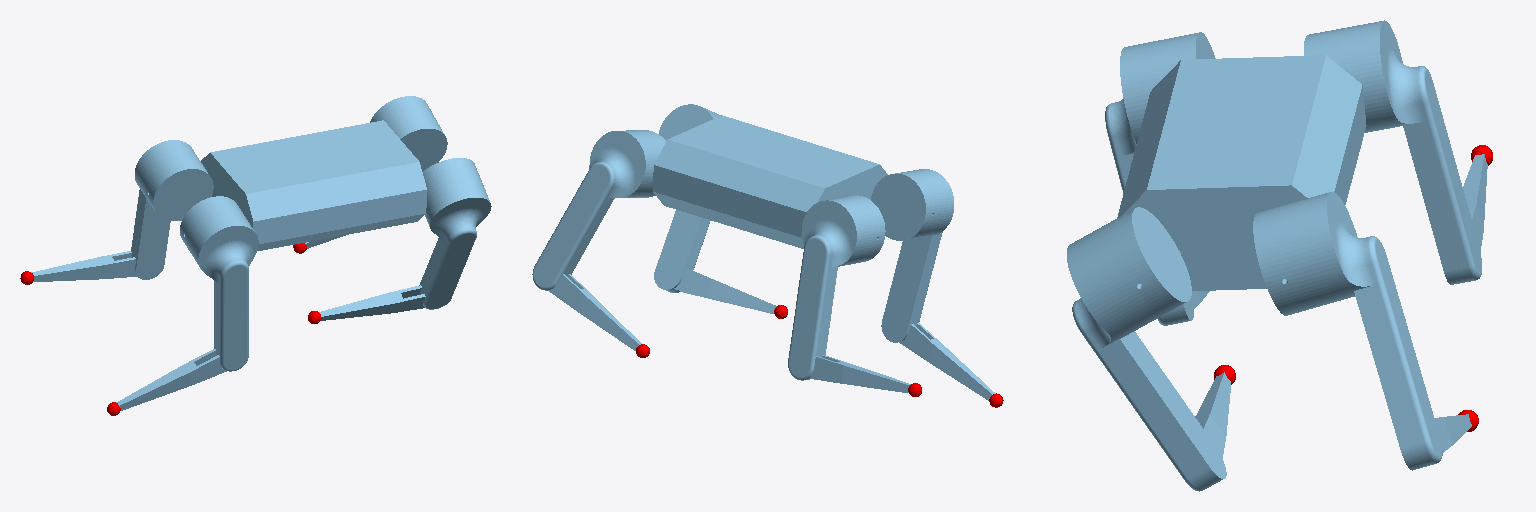
robot.urdf — astro:
<?xml version="1.0" encoding="utf-8"?>

<robot name="astro">
<link name="body_1">
<inertial>
<origin xyz="0 0 0" rpy="0 0 0" />
<mass value="1e-9" />
<inertia ixx="0" ixy="0" ixz="0" iyy="0" iyz="0" izz="0" />
</inertial>
</link>
<link name="body_1_0_body">
<visual>
<geometry>
<mesh filename="package://astro_description/meshes/body.stl"/>
</geometry>
<material name="body_1_0_body_material">
<color rgba="0.615686 0.811765 0.929412 1.0"/>
</material>
</visual>
<collision>
<geometry>
<mesh filename="package://astro_description/meshes/body.stl"/>
</geometry>
<material name="body_1_0_body_material">
<color rgba="0.615686 0.811765 0.929412 1.0"/>
</material>
</collision>
<inertial>
<origin xyz="3.23514e-17 -1.57563e-17 7.22909e-19" rpy="0 0 0"/>
<mass value="5.53043"/>
<inertia ixx="0.0182567" ixy="0"  ixz="0" iyy="0.039027" iyz="0" izz="0.0489361" />
</inertial>
</link>
<joint name="body_1_body_1_0_body_fixing" type="fixed">
<origin xyz="0.0659972 -0.00223125 -0.0325887" rpy="0.0869049 -2.22293e-16 -0.110998" />
<parent link="body_1" />
<child link="body_1_0_body" />
<axis xyz="0 0 0"/>
</joint>

<link name="hip_motor_1">
<inertial>
<origin xyz="0 0 0" rpy="0 0 0" />
<mass value="1e-9" />
<inertia ixx="0" ixy="0" ixz="0" iyy="0" iyz="0" izz="0" />
</inertial>
</link>
<link name="hip_motor_1_0_hip_motor">
<visual>
<geometry>
<mesh filename="package://astro_description/meshes/hip_motor.stl"/>
</geometry>
<material name="hip_motor_1_0_hip_motor_material">
<color rgba="0.615686 0.811765 0.929412 1.0"/>
</material>
</visual>
<collision>
<geometry>
<mesh filename="package://astro_description/meshes/hip_motor.stl"/>
</geometry>
<material name="hip_motor_1_0_hip_motor_material">
<color rgba="0.615686 0.811765 0.929412 1.0"/>
</material>
</collision>
<inertial>
<origin xyz="1.13446e-11 -2.52228e-11 5.19814e-10" rpy="0 0 0"/>
<mass value="0.290543"/>
<inertia ixx="0.000328594" ixy="-2.04303e-13"  ixz="2.49012e-14" iyy="0.000195003" iyz="-1.8485e-14" izz="0.000193353" />
</inertial>
</link>
<joint name="hip_motor_1_hip_motor_1_0_hip_motor_fixing" type="fixed">
<origin xyz="0 -0.0480708 0" rpy="7.08535e-18 7.46602e-18 1.29392e-17" />
<parent link="hip_motor_1" />
<child link="hip_motor_1_0_hip_motor" />
<axis xyz="0 0 0"/>
</joint>

<link name="upper_leg_1">
<inertial>
<origin xyz="0 0 0" rpy="0 0 0" />
<mass value="1e-9" />
<inertia ixx="0" ixy="0" ixz="0" iyy="0" iyz="0" izz="0" />
</inertial>
</link>
<link name="upper_leg_1_0_upper_leg">
<visual>
<geometry>
<mesh filename="package://astro_description/meshes/upper_leg.stl"/>
</geometry>
<material name="upper_leg_1_0_upper_leg_material">
<color rgba="0.615686 0.811765 0.929412 1.0"/>
</material>
</visual>
<collision>
<geometry>
<mesh filename="package://astro_description/meshes/upper_leg.stl"/>
</geometry>
<material name="upper_leg_1_0_upper_leg_material">
<color rgba="0.615686 0.811765 0.929412 1.0"/>
</material>
</collision>
<inertial>
<origin xyz="-0.0158653 -0.0518927 2.91082e-08" rpy="0 0 0"/>
<mass value="0.599558"/>
<inertia ixx="0.00301503" ixy="-0.000481164"  ixz="-1.17508e-10" iyy="0.00041169" iyz="-1.99021e-10" izz="0.00299142" />
</inertial>
</link>
<joint name="upper_leg_1_upper_leg_1_0_upper_leg_fixing" type="fixed">
<origin xyz="-0.0175 2.77556e-17 2.77556e-17" rpy="-5.07849e-18 -5.76165e-18 9.22476e-18" />
<parent link="upper_leg_1" />
<child link="upper_leg_1_0_upper_leg" />
<axis xyz="0 0 0"/>
</joint>

<link name="shin_1">
<inertial>
<origin xyz="0 0 0" rpy="0 0 0" />
<mass value="1e-9" />
<inertia ixx="0" ixy="0" ixz="0" iyy="0" iyz="0" izz="0" />
</inertial>
</link>
<link name="shin_1_0_shin">
<visual>
<geometry>
<mesh filename="package://astro_description/meshes/shin.stl"/>
</geometry>
<material name="shin_1_0_shin_material">
<color rgba="0.615686 0.811765 0.929412 1.0"/>
</material>
</visual>
<collision>
<geometry>
<mesh filename="package://astro_description/meshes/shin.stl"/>
</geometry>
<material name="shin_1_0_shin_material">
<color rgba="0.615686 0.811765 0.929412 1.0"/>
</material>
</collision>
<inertial>
<origin xyz="1.75032e-18 -2.35773e-05 -0.0854768" rpy="0 0 0"/>
<mass value="0.0649774"/>
<inertia ixx="0.000128996" ixy="0"  ixz="0" iyy="0.000127636" iyz="4.44939e-08" izz="5.60423e-06" />
</inertial>
</link>
<joint name="shin_1_shin_1_0_shin_fixing" type="fixed">
<origin xyz="0.01 0 2.77556e-17" rpy="4.44466e-17 -2.91026e-17 4.33682e-18" />
<parent link="shin_1" />
<child link="shin_1_0_shin" />
<axis xyz="0 0 0"/>
</joint>

<link name="shin_1_1_toe">
<visual>
<geometry>
<mesh filename="package://astro_description/meshes/toe.stl"/>
</geometry>
<material name="shin_1_1_toe_material">
<color rgba="1 0 0 1.0"/>
</material>
</visual>
<collision>
<geometry>
<mesh filename="package://astro_description/meshes/toe.stl"/>
</geometry>
<material name="shin_1_1_toe_material">
<color rgba="1 0 0 1.0"/>
</material>
</collision>
<inertial>
<origin xyz="2.95606e-11 -9.95771e-12 0.00105178" rpy="0 0 0"/>
<mass value="0.00402782"/>
<inertia ixx="1.62265e-07" ixy="-3.71722e-16"  ixz="1.01732e-15" iyy="1.58984e-07" iyz="-3.30423e-16" izz="1.84918e-07" />
</inertial>
</link>
<joint name="shin_1_shin_1_1_toe_fixing" type="fixed">
<origin xyz="0.01 0 -0.19" rpy="-3.14159 -1.26958e-14 1.5708" />
<parent link="shin_1" />
<child link="shin_1_1_toe" />
<axis xyz="0 0 0"/>
</joint>

<joint name="knee_9" type="revolute">
<origin xyz="-0.059 -0.1875 -1.66533e-16" rpy="3.14159 5.61294e-16 -1.5846e-15" />
<parent link="upper_leg_1" />
<child link="shin_1" />
<axis xyz="-1 0 0"/>
<limit effort="1.5" lower="-3.14" upper="3.14" velocity="22" />
<joint_properties friction="0.0"/>
</joint>

<joint name="hip_flexion_8" type="revolute">
<origin xyz="-0.0175 -0.0480708 -3.46945e-17" rpy="1.91986 6.38524e-16 1.61754e-16" />
<parent link="hip_motor_1" />
<child link="upper_leg_1" />
<axis xyz="-1 0 0"/>
<limit effort="1.5" lower="-3.14" upper="3.14" velocity="22" />
<joint_properties friction="0.0"/>
</joint>

<joint name="hip_abduction_7" type="revolute">
<origin xyz="0.304807 0.0363077 -0.0269469" rpy="-1.53545e-15 0.349452 -1.68179" />
<parent link="body_1" />
<child link="hip_motor_1" />
<axis xyz="0 -1 0"/>
<limit effort="1.5" lower="-3.14" upper="3.14" velocity="22" />
<joint_properties friction="0.0"/>
</joint>

<link name="hip_motor_2">
<inertial>
<origin xyz="0 0 0" rpy="0 0 0" />
<mass value="1e-9" />
<inertia ixx="0" ixy="0" ixz="0" iyy="0" iyz="0" izz="0" />
</inertial>
</link>
<link name="hip_motor_2_0_hip_motor">
<visual>
<geometry>
<mesh filename="package://astro_description/meshes/hip_motor.stl"/>
</geometry>
<material name="hip_motor_2_0_hip_motor_material">
<color rgba="0.615686 0.811765 0.929412 1.0"/>
</material>
</visual>
<collision>
<geometry>
<mesh filename="package://astro_description/meshes/hip_motor.stl"/>
</geometry>
<material name="hip_motor_2_0_hip_motor_material">
<color rgba="0.615686 0.811765 0.929412 1.0"/>
</material>
</collision>
<inertial>
<origin xyz="1.13446e-11 -2.52228e-11 5.19814e-10" rpy="0 0 0"/>
<mass value="0.290543"/>
<inertia ixx="0.000328594" ixy="-2.04303e-13"  ixz="2.49012e-14" iyy="0.000195003" iyz="-1.8485e-14" izz="0.000193353" />
</inertial>
</link>
<joint name="hip_motor_2_hip_motor_2_0_hip_motor_fixing" type="fixed">
<origin xyz="0 0.0480708 0" rpy="-3.94366e-19 -6.42774e-17 -5.68311e-18" />
<parent link="hip_motor_2" />
<child link="hip_motor_2_0_hip_motor" />
<axis xyz="0 0 0"/>
</joint>

<link name="upper_leg_2">
<inertial>
<origin xyz="0 0 0" rpy="0 0 0" />
<mass value="1e-9" />
<inertia ixx="0" ixy="0" ixz="0" iyy="0" iyz="0" izz="0" />
</inertial>
</link>
<link name="upper_leg_2_0_upper_leg">
<visual>
<geometry>
<mesh filename="package://astro_description/meshes/upper_leg.stl"/>
</geometry>
<material name="upper_leg_2_0_upper_leg_material">
<color rgba="0.615686 0.811765 0.929412 1.0"/>
</material>
</visual>
<collision>
<geometry>
<mesh filename="package://astro_description/meshes/upper_leg.stl"/>
</geometry>
<material name="upper_leg_2_0_upper_leg_material">
<color rgba="0.615686 0.811765 0.929412 1.0"/>
</material>
</collision>
<inertial>
<origin xyz="-0.0158653 -0.0518927 2.91082e-08" rpy="0 0 0"/>
<mass value="0.599558"/>
<inertia ixx="0.00301503" ixy="-0.000481164"  ixz="-1.17508e-10" iyy="0.00041169" iyz="-1.99021e-10" izz="0.00299142" />
</inertial>
</link>
<joint name="upper_leg_2_upper_leg_2_0_upper_leg_fixing" type="fixed">
<origin xyz="0.03783 6.93889e-18 0" rpy="-2.85189e-18 1.61614e-17 3.69393e-17" />
<parent link="upper_leg_2" />
<child link="upper_leg_2_0_upper_leg" />
<axis xyz="0 0 0"/>
</joint>

<link name="shin_2">
<inertial>
<origin xyz="0 0 0" rpy="0 0 0" />
<mass value="1e-9" />
<inertia ixx="0" ixy="0" ixz="0" iyy="0" iyz="0" izz="0" />
</inertial>
</link>
<link name="shin_2_0_toe">
<visual>
<geometry>
<mesh filename="package://astro_description/meshes/toe.stl"/>
</geometry>
<material name="shin_2_0_toe_material">
<color rgba="1 0 0 1.0"/>
</material>
</visual>
<collision>
<geometry>
<mesh filename="package://astro_description/meshes/toe.stl"/>
</geometry>
<material name="shin_2_0_toe_material">
<color rgba="1 0 0 1.0"/>
</material>
</collision>
<inertial>
<origin xyz="2.95606e-11 -9.95771e-12 0.00105178" rpy="0 0 0"/>
<mass value="0.00402782"/>
<inertia ixx="1.62265e-07" ixy="-3.71722e-16"  ixz="1.01732e-15" iyy="1.58984e-07" iyz="-3.30423e-16" izz="1.84918e-07" />
</inertial>
</link>
<joint name="shin_2_shin_2_0_toe_fixing" type="fixed">
<origin xyz="0.007525 0 -0.19" rpy="3.14159 9.50014e-19 1.5708" />
<parent link="shin_2" />
<child link="shin_2_0_toe" />
<axis xyz="0 0 0"/>
</joint>

<link name="shin_2_1_shin">
<visual>
<geometry>
<mesh filename="package://astro_description/meshes/shin.stl"/>
</geometry>
<material name="shin_2_1_shin_material">
<color rgba="0.615686 0.811765 0.929412 1.0"/>
</material>
</visual>
<collision>
<geometry>
<mesh filename="package://astro_description/meshes/shin.stl"/>
</geometry>
<material name="shin_2_1_shin_material">
<color rgba="0.615686 0.811765 0.929412 1.0"/>
</material>
</collision>
<inertial>
<origin xyz="1.75032e-18 -2.35773e-05 -0.0854768" rpy="0 0 0"/>
<mass value="0.0649774"/>
<inertia ixx="0.000128996" ixy="0"  ixz="0" iyy="0.000127636" iyz="4.44939e-08" izz="5.60423e-06" />
</inertial>
</link>
<joint name="shin_2_shin_2_1_shin_fixing" type="fixed">
<origin xyz="0.007525 -2.77556e-17 0" rpy="-8.20438e-18 -1.48504e-17 -4.83794e-17" />
<parent link="shin_2" />
<child link="shin_2_1_shin" />
<axis xyz="0 0 0"/>
</joint>

<joint name="knee_6" type="revolute">
<origin xyz="-0.001195 -0.1875 -2.498e-16" rpy="3.09586 -1.58941e-17 3.17485e-17" />
<parent link="upper_leg_2" />
<child link="shin_2" />
<axis xyz="-1 0 0"/>
<limit effort="1.5" lower="-3.14" upper="3.14" velocity="22" />
<joint_properties friction="0.0"/>
</joint>

<joint name="hip_flexion_5" type="revolute">
<origin xyz="0.07283 0.0480708 2.08167e-17" rpy="-1.58401 2.09646e-16 -3.14159" />
<parent link="hip_motor_2" />
<child link="upper_leg_2" />
<axis xyz="-1 0 0"/>
<limit effort="1.5" lower="-3.14" upper="3.14" velocity="22" />
<joint_properties friction="0.0"/>
</joint>

<joint name="hip_abduction_4" type="revolute">
<origin xyz="-0.158466 0.0879422 -0.0269469" rpy="3.14159 -0.249989 1.4598" />
<parent link="body_1" />
<child link="hip_motor_2" />
<axis xyz="0 -1 0"/>
<limit effort="1.5" lower="-3.14" upper="3.14" velocity="22" />
<joint_properties friction="0.0"/>
</joint>

<link name="hip_motor_3">
<inertial>
<origin xyz="0 0 0" rpy="0 0 0" />
<mass value="1e-9" />
<inertia ixx="0" ixy="0" ixz="0" iyy="0" iyz="0" izz="0" />
</inertial>
</link>
<link name="hip_motor_3_0_hip_motor">
<visual>
<geometry>
<mesh filename="package://astro_description/meshes/hip_motor.stl"/>
</geometry>
<material name="hip_motor_3_0_hip_motor_material">
<color rgba="0.615686 0.811765 0.929412 1.0"/>
</material>
</visual>
<collision>
<geometry>
<mesh filename="package://astro_description/meshes/hip_motor.stl"/>
</geometry>
<material name="hip_motor_3_0_hip_motor_material">
<color rgba="0.615686 0.811765 0.929412 1.0"/>
</material>
</collision>
<inertial>
<origin xyz="1.13446e-11 -2.52228e-11 5.19814e-10" rpy="0 0 0"/>
<mass value="0.290543"/>
<inertia ixx="0.000328594" ixy="-2.04303e-13"  ixz="2.49012e-14" iyy="0.000195003" iyz="-1.8485e-14" izz="0.000193353" />
</inertial>
</link>
<joint name="hip_motor_3_hip_motor_3_0_hip_motor_fixing" type="fixed">
<origin xyz="0 0.0480708 -3.46945e-18" rpy="-3.87128e-18 2.22688e-17 9.68802e-18" />
<parent link="hip_motor_3" />
<child link="hip_motor_3_0_hip_motor" />
<axis xyz="0 0 0"/>
</joint>

<link name="upper_leg_3">
<inertial>
<origin xyz="0 0 0" rpy="0 0 0" />
<mass value="1e-9" />
<inertia ixx="0" ixy="0" ixz="0" iyy="0" iyz="0" izz="0" />
</inertial>
</link>
<link name="upper_leg_3_0_upper_leg">
<visual>
<geometry>
<mesh filename="package://astro_description/meshes/upper_leg.stl"/>
</geometry>
<material name="upper_leg_3_0_upper_leg_material">
<color rgba="0.615686 0.811765 0.929412 1.0"/>
</material>
</visual>
<collision>
<geometry>
<mesh filename="package://astro_description/meshes/upper_leg.stl"/>
</geometry>
<material name="upper_leg_3_0_upper_leg_material">
<color rgba="0.615686 0.811765 0.929412 1.0"/>
</material>
</collision>
<inertial>
<origin xyz="-0.0158653 -0.0518927 2.91082e-08" rpy="0 0 0"/>
<mass value="0.599558"/>
<inertia ixx="0.00301503" ixy="-0.000481164"  ixz="-1.17508e-10" iyy="0.00041169" iyz="-1.99021e-10" izz="0.00299142" />
</inertial>
</link>
<joint name="upper_leg_3_upper_leg_3_0_upper_leg_fixing" type="fixed">
<origin xyz="-0.0175 0 0" rpy="1.50341e-17 -5.27038e-18 1.87504e-17" />
<parent link="upper_leg_3" />
<child link="upper_leg_3_0_upper_leg" />
<axis xyz="0 0 0"/>
</joint>

<link name="shin_3">
<inertial>
<origin xyz="0 0 0" rpy="0 0 0" />
<mass value="1e-9" />
<inertia ixx="0" ixy="0" ixz="0" iyy="0" iyz="0" izz="0" />
</inertial>
</link>
<link name="shin_3_0_shin">
<visual>
<geometry>
<mesh filename="package://astro_description/meshes/shin.stl"/>
</geometry>
<material name="shin_3_0_shin_material">
<color rgba="0.615686 0.811765 0.929412 1.0"/>
</material>
</visual>
<collision>
<geometry>
<mesh filename="package://astro_description/meshes/shin.stl"/>
</geometry>
<material name="shin_3_0_shin_material">
<color rgba="0.615686 0.811765 0.929412 1.0"/>
</material>
</collision>
<inertial>
<origin xyz="1.75032e-18 -2.35773e-05 -0.0854768" rpy="0 0 0"/>
<mass value="0.0649774"/>
<inertia ixx="0.000128996" ixy="0"  ixz="0" iyy="0.000127636" iyz="4.44939e-08" izz="5.60423e-06" />
</inertial>
</link>
<joint name="shin_3_shin_3_0_shin_fixing" type="fixed">
<origin xyz="-0.01 0 0" rpy="7.8451e-19 2.00255e-17 -1.0127e-17" />
<parent link="shin_3" />
<child link="shin_3_0_shin" />
<axis xyz="0 0 0"/>
</joint>

<link name="shin_3_1_toe">
<visual>
<geometry>
<mesh filename="package://astro_description/meshes/toe.stl"/>
</geometry>
<material name="shin_3_1_toe_material">
<color rgba="1 0 0 1.0"/>
</material>
</visual>
<collision>
<geometry>
<mesh filename="package://astro_description/meshes/toe.stl"/>
</geometry>
<material name="shin_3_1_toe_material">
<color rgba="1 0 0 1.0"/>
</material>
</collision>
<inertial>
<origin xyz="2.95606e-11 -9.95771e-12 0.00105178" rpy="0 0 0"/>
<mass value="0.00402782"/>
<inertia ixx="1.62265e-07" ixy="-3.71722e-16"  ixz="1.01732e-15" iyy="1.58984e-07" iyz="-3.30423e-16" izz="1.84918e-07" />
</inertial>
</link>
<joint name="shin_3_shin_3_1_toe_fixing" type="fixed">
<origin xyz="-0.01 -2.77556e-17 -0.19" rpy="-3.14159 -8.66018e-15 1.5708" />
<parent link="shin_3" />
<child link="shin_3_1_toe" />
<axis xyz="0 0 0"/>
</joint>

<joint name="knee_3" type="revolute">
<origin xyz="-0.059 -0.1875 -2.08167e-16" rpy="0.224792 6.77349e-18 -3.14159" />
<parent link="upper_leg_3" />
<child link="shin_3" />
<axis xyz="-1 0 0"/>
<limit effort="1.5" lower="-3.14" upper="3.14" velocity="22" />
<joint_properties friction="0.0"/>
</joint>

<joint name="hip_flexion_2" type="revolute">
<origin xyz="0.0175 0.0480708 -6.93889e-18" rpy="1.46167 -2.94281e-16 3.14159" />
<parent link="hip_motor_3" />
<child link="upper_leg_3" />
<axis xyz="-1 0 0"/>
<limit effort="1.5" lower="-3.14" upper="3.14" velocity="22" />
<joint_properties friction="0.0"/>
</joint>

<joint name="hip_abduction_1" type="revolute">
<origin xyz="-0.172812 -0.0407702 -0.0382304" rpy="2.10258e-16 0.262942 -1.68179" />
<parent link="body_1" />
<child link="hip_motor_3" />
<axis xyz="0 -1 0"/>
<limit effort="1.5" lower="-3.14" upper="3.14" velocity="22" />
<joint_properties friction="0.0"/>
</joint>

<link name="hip_motor_4">
<inertial>
<origin xyz="0 0 0" rpy="0 0 0" />
<mass value="1e-9" />
<inertia ixx="0" ixy="0" ixz="0" iyy="0" iyz="0" izz="0" />
</inertial>
</link>
<link name="hip_motor_4_0_hip_motor">
<visual>
<geometry>
<mesh filename="package://astro_description/meshes/hip_motor.stl"/>
</geometry>
<material name="hip_motor_4_0_hip_motor_material">
<color rgba="0.615686 0.811765 0.929412 1.0"/>
</material>
</visual>
<collision>
<geometry>
<mesh filename="package://astro_description/meshes/hip_motor.stl"/>
</geometry>
<material name="hip_motor_4_0_hip_motor_material">
<color rgba="0.615686 0.811765 0.929412 1.0"/>
</material>
</collision>
<inertial>
<origin xyz="1.13446e-11 -2.52228e-11 5.19814e-10" rpy="0 0 0"/>
<mass value="0.290543"/>
<inertia ixx="0.000328594" ixy="-2.04303e-13"  ixz="2.49012e-14" iyy="0.000195003" iyz="-1.8485e-14" izz="0.000193353" />
</inertial>
</link>
<joint name="hip_motor_4_hip_motor_4_0_hip_motor_fixing" type="fixed">
<origin xyz="0 -0.0480708 8.23994e-18" rpy="-1.0701e-17 -1.09953e-16 8.37824e-18" />
<parent link="hip_motor_4" />
<child link="hip_motor_4_0_hip_motor" />
<axis xyz="0 0 0"/>
</joint>

<link name="upper_leg_4">
<inertial>
<origin xyz="0 0 0" rpy="0 0 0" />
<mass value="1e-9" />
<inertia ixx="0" ixy="0" ixz="0" iyy="0" iyz="0" izz="0" />
</inertial>
</link>
<link name="upper_leg_4_0_upper_leg">
<visual>
<geometry>
<mesh filename="package://astro_description/meshes/upper_leg.stl"/>
</geometry>
<material name="upper_leg_4_0_upper_leg_material">
<color rgba="0.615686 0.811765 0.929412 1.0"/>
</material>
</visual>
<collision>
<geometry>
<mesh filename="package://astro_description/meshes/upper_leg.stl"/>
</geometry>
<material name="upper_leg_4_0_upper_leg_material">
<color rgba="0.615686 0.811765 0.929412 1.0"/>
</material>
</collision>
<inertial>
<origin xyz="-0.0158653 -0.0518927 2.91082e-08" rpy="0 0 0"/>
<mass value="0.599558"/>
<inertia ixx="0.00301503" ixy="-0.000481164"  ixz="-1.17508e-10" iyy="0.00041169" iyz="-1.99021e-10" izz="0.00299142" />
</inertial>
</link>
<joint name="upper_leg_4_upper_leg_4_0_upper_leg_fixing" type="fixed">
<origin xyz="0.010165 -1.0842e-18 0" rpy="5.13508e-18 1.0553e-17 2.019e-17" />
<parent link="upper_leg_4" />
<child link="upper_leg_4_0_upper_leg" />
<axis xyz="0 0 0"/>
</joint>

<link name="shin_4">
<inertial>
<origin xyz="0 0 0" rpy="0 0 0" />
<mass value="1e-9" />
<inertia ixx="0" ixy="0" ixz="0" iyy="0" iyz="0" izz="0" />
</inertial>
</link>
<link name="shin_4_0_shin">
<visual>
<geometry>
<mesh filename="package://astro_description/meshes/shin.stl"/>
</geometry>
<material name="shin_4_0_shin_material">
<color rgba="0.615686 0.811765 0.929412 1.0"/>
</material>
</visual>
<collision>
<geometry>
<mesh filename="package://astro_description/meshes/shin.stl"/>
</geometry>
<material name="shin_4_0_shin_material">
<color rgba="0.615686 0.811765 0.929412 1.0"/>
</material>
</collision>
<inertial>
<origin xyz="1.75032e-18 -2.35773e-05 -0.0854768" rpy="0 0 0"/>
<mass value="0.0649774"/>
<inertia ixx="0.000128996" ixy="0"  ixz="0" iyy="0.000127636" iyz="4.44939e-08" izz="5.60423e-06" />
</inertial>
</link>
<joint name="shin_4_shin_4_0_shin_fixing" type="fixed">
<origin xyz="-0.007525 0 0" rpy="-1.41386e-18 1.68235e-17 -1.73211e-17" />
<parent link="shin_4" />
<child link="shin_4_0_shin" />
<axis xyz="0 0 0"/>
</joint>

<link name="shin_4_1_toe">
<visual>
<geometry>
<mesh filename="package://astro_description/meshes/toe.stl"/>
</geometry>
<material name="shin_4_1_toe_material">
<color rgba="1 0 0 1.0"/>
</material>
</visual>
<collision>
<geometry>
<mesh filename="package://astro_description/meshes/toe.stl"/>
</geometry>
<material name="shin_4_1_toe_material">
<color rgba="1 0 0 1.0"/>
</material>
</collision>
<inertial>
<origin xyz="2.95606e-11 -9.95771e-12 0.00105178" rpy="0 0 0"/>
<mass value="0.00402782"/>
<inertia ixx="1.62265e-07" ixy="-3.71722e-16"  ixz="1.01732e-15" iyy="1.58984e-07" iyz="-3.30423e-16" izz="1.84918e-07" />
</inertial>
</link>
<joint name="shin_4_shin_4_1_toe_fixing" type="fixed">
<origin xyz="-0.007525 8.32667e-17 -0.19" rpy="3.14159 1.43116e-18 1.5708" />
<parent link="shin_4" />
<child link="shin_4_1_toe" />
<axis xyz="0 0 0"/>
</joint>

<joint name="knee_12" type="revolute">
<origin xyz="-0.02886 -0.1875 -1.66533e-16" rpy="0.0146175 1.46111e-15 3.14159" />
<parent link="upper_leg_4" />
<child link="shin_4" />
<axis xyz="-1 0 0"/>
<limit effort="1.5" lower="-3.14" upper="3.14" velocity="22" />
<joint_properties friction="0.0"/>
</joint>

<joint name="hip_flexion_11" type="revolute">
<origin xyz="0.045165 -0.0480708 -1.23599e-17" rpy="1.5708 -4.73516e-16 -3.14159" />
<parent link="hip_motor_4" />
<child link="upper_leg_4" />
<axis xyz="-1 0 0"/>
<limit effort="1.5" lower="-3.14" upper="3.14" velocity="22" />
<joint_properties friction="0.0"/>
</joint>

<joint name="hip_abduction_10" type="revolute">
<origin xyz="0.290461 -0.0924047 -0.0382304" rpy="2.76452e-16 0.584224 -1.68179" />
<parent link="body_1" />
<child link="hip_motor_4" />
<axis xyz="0 -1 0"/>
<limit effort="1.5" lower="-3.14" upper="3.14" velocity="22" />
<joint_properties friction="0.0"/>
</joint>

</robot>

--- What the picture shows (computed from the rendered views, not written in the file) ---
The picture shows the robot from 3 angles, left to right: view 1: azimuth 30°, elevation 25°; view 2: azimuth 150°, elevation 25°; view 3: azimuth 270°, elevation 25°; orthographic projection.
Robot: astro — 30 links, 29 joints (12 revolute, 17 fixed); root link body_1; default pose: every joint at zero.
Visible links, largest first — view 1: body_1_0_body, upper_leg_3_0_upper_leg, upper_leg_4_0_upper_leg, upper_leg_2_0_upper_leg, hip_motor_2_0_hip_motor, shin_3_0_shin, hip_motor_1_0_hip_motor, shin_2_1_shin, shin_4_0_shin, hip_motor_4_0_hip_motor, hip_motor_3_0_hip_motor, upper_leg_1_0_upper_leg; view 2: body_1_0_body, upper_leg_2_0_upper_leg, upper_leg_1_0_upper_leg, upper_leg_3_0_upper_leg, hip_motor_3_0_hip_motor, upper_leg_4_0_upper_leg, shin_3_0_shin, shin_1_0_shin, shin_2_1_shin, shin_4_0_shin, hip_motor_4_0_hip_motor, hip_motor_2_0_hip_motor; view 3: body_1_0_body, upper_leg_1_0_upper_leg, upper_leg_2_0_upper_leg, upper_leg_4_0_upper_leg, hip_motor_4_0_hip_motor, upper_leg_3_0_upper_leg, hip_motor_1_0_hip_motor, shin_4_0_shin, hip_motor_3_0_hip_motor, shin_2_1_shin, hip_motor_2_0_hip_motor, shin_1_0_shin.
Boxes of the visible links, box(x1,y1,x2,y2) form: body_1_0_body: box(201, 120, 426, 250); upper_leg_3_0_upper_leg: box(189, 211, 258, 371); upper_leg_4_0_upper_leg: box(419, 178, 491, 309); upper_leg_2_0_upper_leg: box(131, 140, 198, 279); hip_motor_2_0_hip_motor: box(144, 154, 213, 220); shin_3_0_shin: box(116, 349, 226, 410); hip_motor_1_0_hip_motor: box(388, 112, 447, 171); shin_2_1_shin: box(31, 251, 136, 281); shin_4_0_shin: box(319, 285, 425, 320); hip_motor_4_0_hip_motor: box(423, 158, 481, 194); hip_motor_3_0_hip_motor: box(180, 196, 243, 252); upper_leg_1_0_upper_leg: box(370, 96, 435, 124); body_1_0_body: box(652, 115, 887, 248); upper_leg_2_0_upper_leg: box(788, 198, 870, 380); upper_leg_1_0_upper_leg: box(532, 130, 658, 290); upper_leg_3_0_upper_leg: box(881, 169, 953, 342); hip_motor_3_0_hip_motor: box(871, 171, 939, 240); upper_leg_4_0_upper_leg: box(654, 112, 721, 292); shin_3_0_shin: box(899, 323, 995, 400); shin_1_0_shin: box(547, 274, 641, 350); shin_2_1_shin: box(809, 355, 910, 392); shin_4_0_shin: box(674, 268, 776, 313); hip_motor_4_0_hip_motor: box(659, 104, 719, 140); hip_motor_2_0_hip_motor: box(841, 195, 885, 263); body_1_0_body: box(1117, 55, 1366, 290); upper_leg_1_0_upper_leg: box(1290, 192, 1442, 470); upper_leg_2_0_upper_leg: box(1342, 20, 1481, 284); upper_leg_4_0_upper_leg: box(1067, 226, 1226, 491); hip_motor_4_0_hip_motor: box(1099, 207, 1191, 319); upper_leg_3_0_upper_leg: box(1105, 40, 1193, 325); hip_motor_1_0_hip_motor: box(1253, 203, 1322, 315); shin_4_0_shin: box(1195, 372, 1230, 458); hip_motor_3_0_hip_motor: box(1158, 32, 1215, 80); shin_2_1_shin: box(1463, 154, 1487, 251); hip_motor_2_0_hip_motor: box(1304, 28, 1344, 67); shin_1_0_shin: box(1435, 414, 1471, 452).
Size in the robot's own frame: 0.6574 by 0.3784 by 0.3413 metres.
17 mesh visuals loaded from 5 distinct referenced files (5 binary STL).